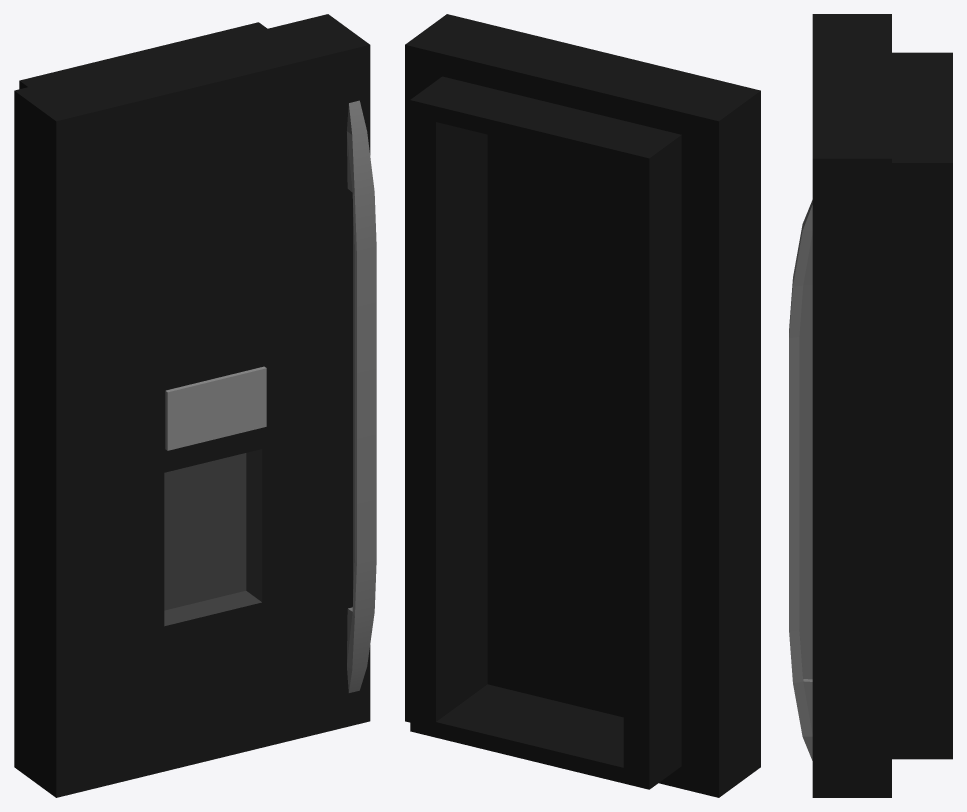
Rendered from Itr_Obj_Fridge1_Top_Door_Left_02.FBX.
The picture shows the model from 3 angles, left to right: view 1: azimuth 30°, elevation 25°; view 2: azimuth 150°, elevation 25°; view 3: azimuth 270°, elevation 25°; orthographic projection. The views are drawn at different scales.
Parts seen in each view (by area): view 1: Itr_Obj_Fridge1_Top_Door_Left_02; view 2: Itr_Obj_Fridge1_Top_Door_Left_02; view 3: Itr_Obj_Fridge1_Top_Door_Left_02.
Part boxes in pixels (x1,y1,x2,y2): Itr_Obj_Fridge1_Top_Door_Left_02: [14, 14, 376, 797]; Itr_Obj_Fridge1_Top_Door_Left_02: [405, 14, 760, 797]; Itr_Obj_Fridge1_Top_Door_Left_02: [789, 14, 952, 797].
Size of the model in its own units: 22.45 by 46.23 by 10.74.
